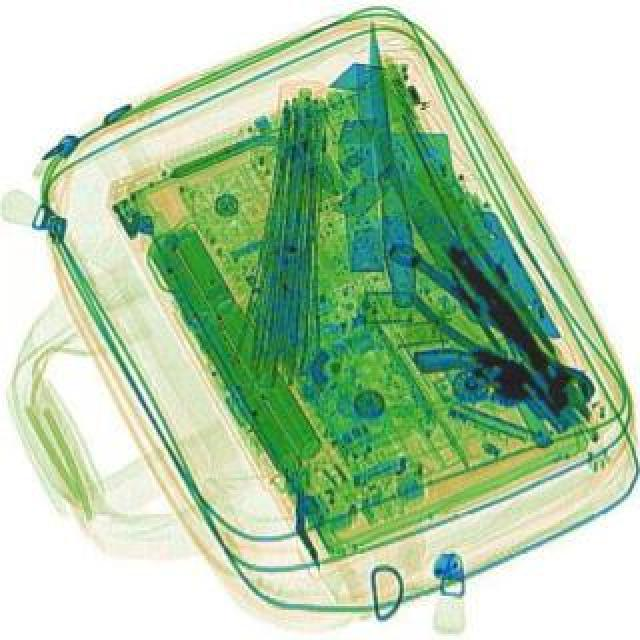gun: (410, 314, 572, 476)
knife: (346, 122, 558, 382), (362, 22, 422, 310)
scissors: (376, 234, 604, 422)
